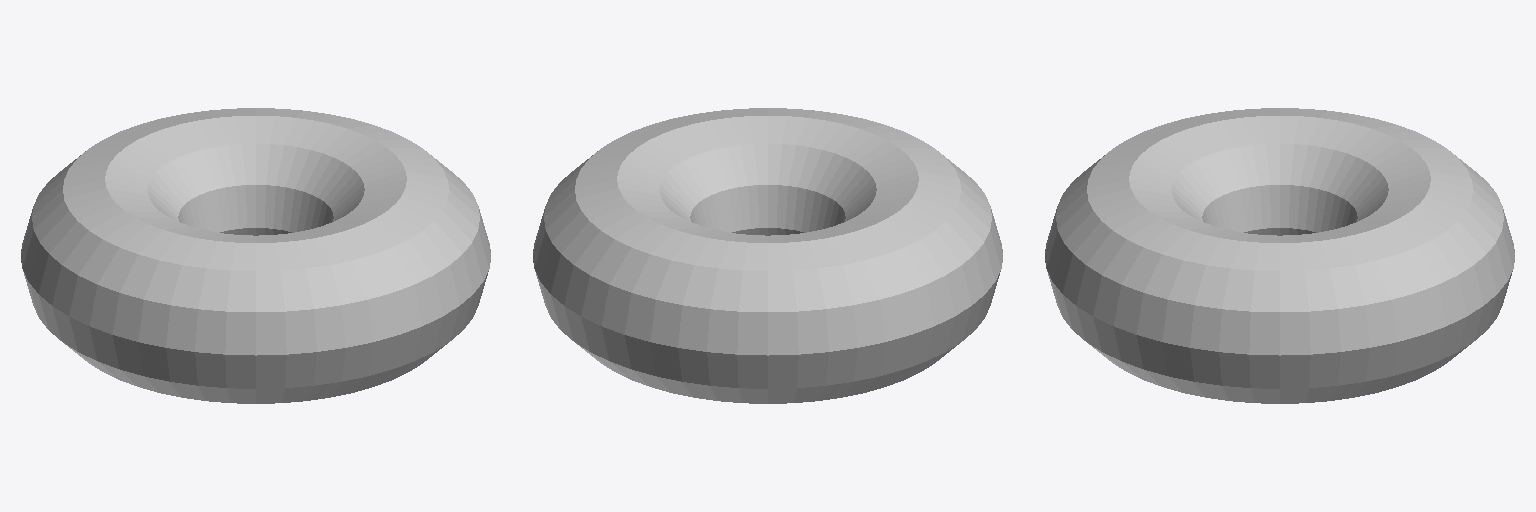
File: color_cube.obj
3 renders of one model, left to right at view 1: azimuth 30°, elevation 25°; view 2: azimuth 150°, elevation 25°; view 3: azimuth 270°, elevation 25°, orthographic.
Parts seen in each view (by area): view 1: Torus; view 2: Torus; view 3: Torus.
Boxes of the visible parts, x1=… form: Torus: x1=21, y1=108, x2=490, y2=403; Torus: x1=533, y1=108, x2=1002, y2=403; Torus: x1=1045, y1=108, x2=1514, y2=403.
Size of the model in its own units: 3.12 by 1.12 by 3.12.